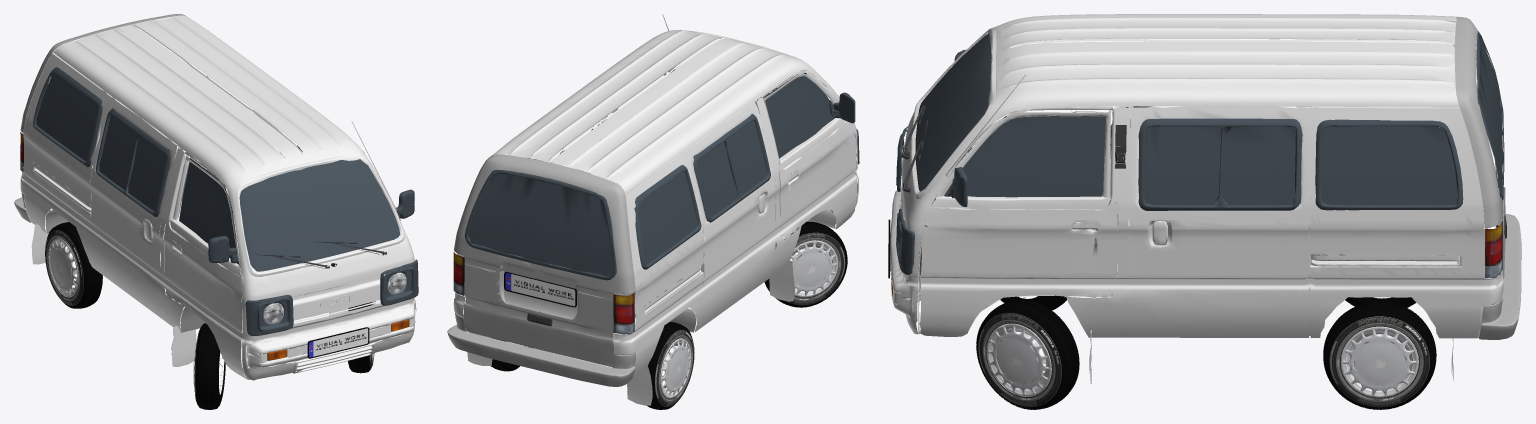
Rendered from carry.glb.
3 renders of one model, left to right at view 1: azimuth 30°, elevation 25°; view 2: azimuth 150°, elevation 25°; view 3: azimuth 270°, elevation 25°, orthographic. The views are drawn at different scales.
Parts seen in each view (by area): view 1: body_q, wRR_q, wFR_q, wFL_q; view 2: body_q, wFR_q, wRR_q; view 3: body_q, wRL_q, wFL_q.
Part boxes in pixels (box(x1,y1,x2,y2)): body_q: box(14, 14, 418, 380); wRR_q: box(45, 222, 102, 308); wFR_q: box(193, 323, 225, 409); wFL_q: box(348, 301, 375, 373); body_q: box(447, 14, 859, 405); wFR_q: box(764, 221, 847, 307); wRR_q: box(647, 322, 694, 409); body_q: box(888, 14, 1521, 383); wRL_q: box(1323, 301, 1436, 409); wFL_q: box(976, 299, 1079, 409).
Bounding box in the file's own units: 1.67 × 1.93 × 3.4.
13 materials, 5 textured.
